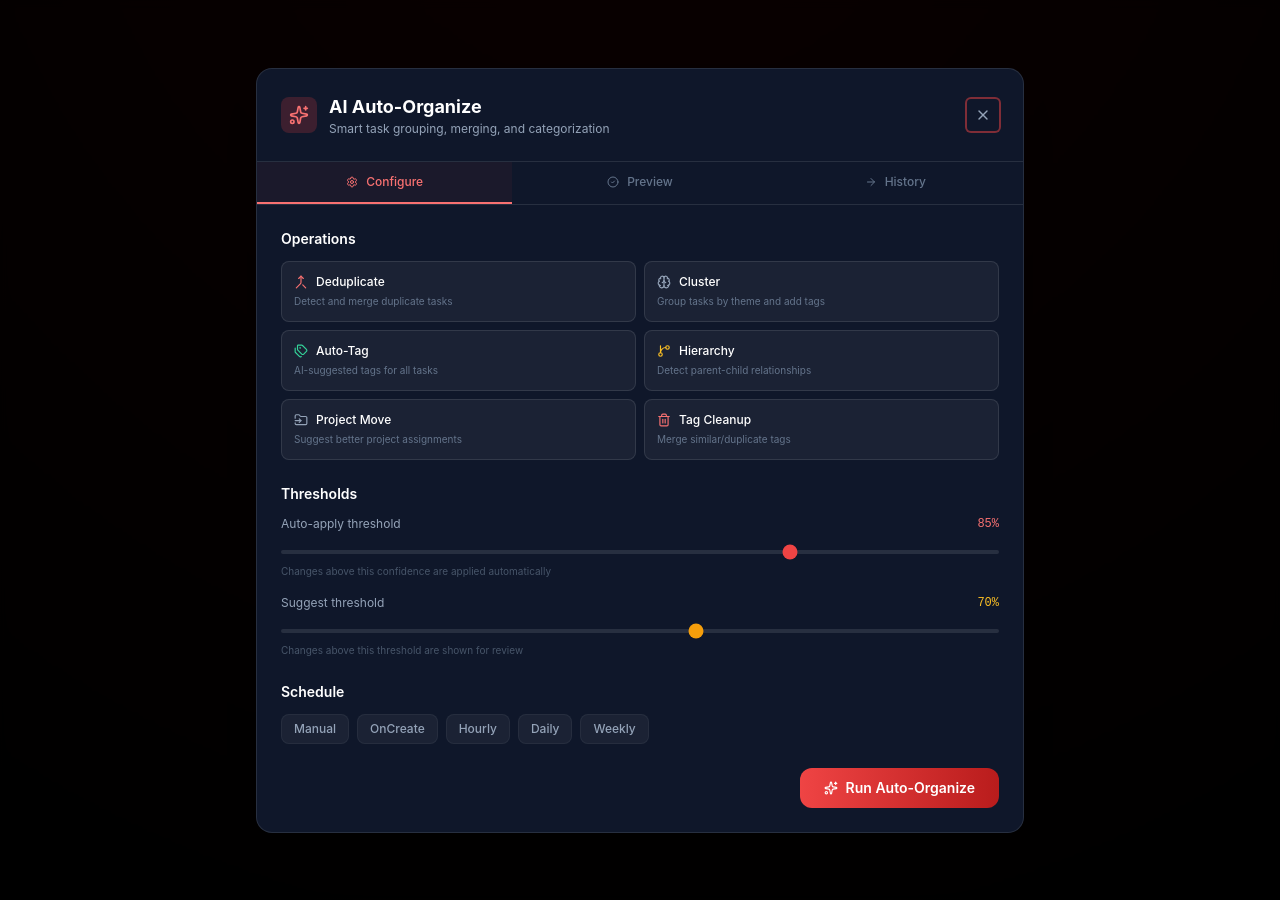
Test case: AutoOrganizePanel › handles organization process
This screenshot has width=1280, height=900.
Click the button "Run Auto-Organize" at (899, 788), box [800,768,999,808]
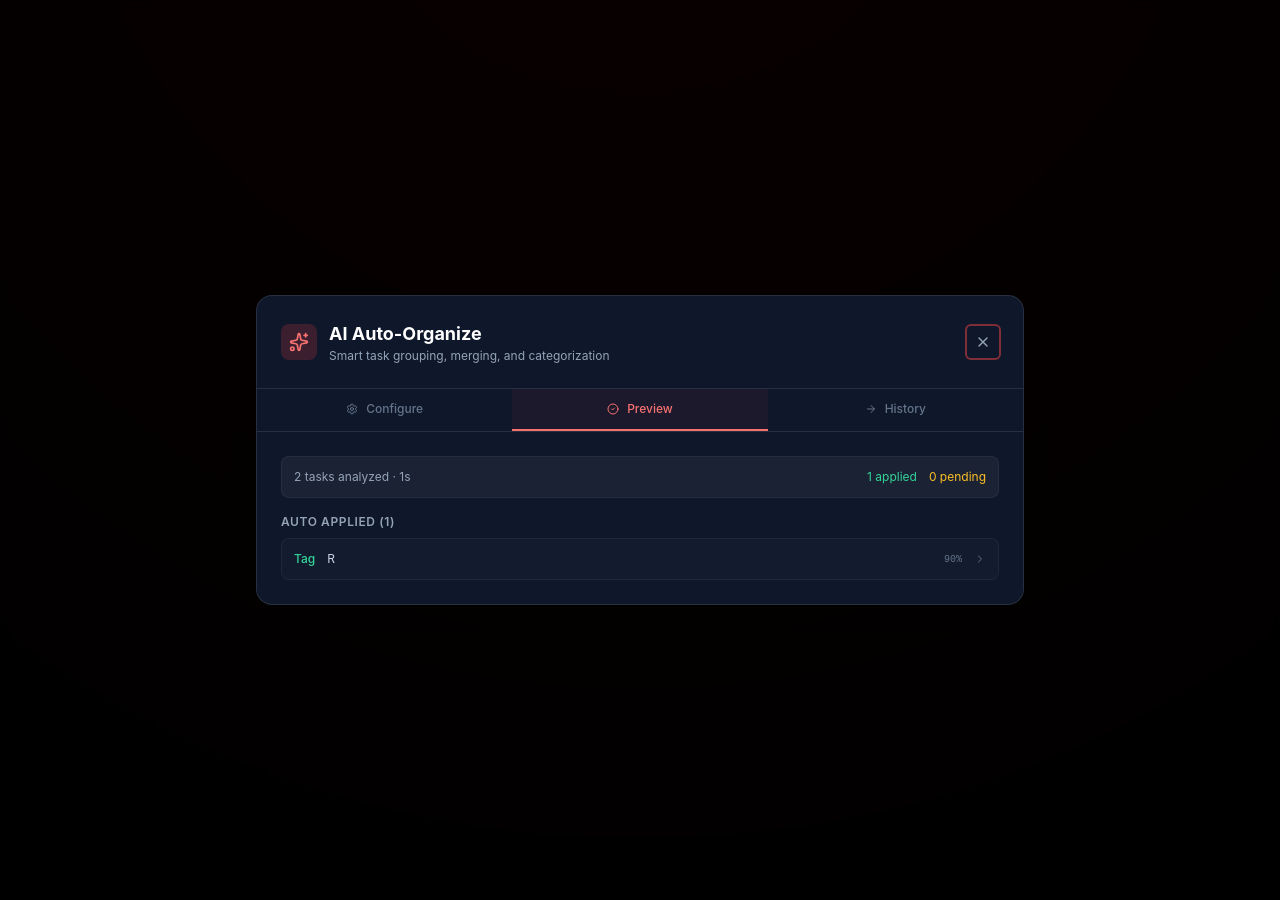
Result: the heading "auto applied (1)" is shown at [281,514,395,529]
